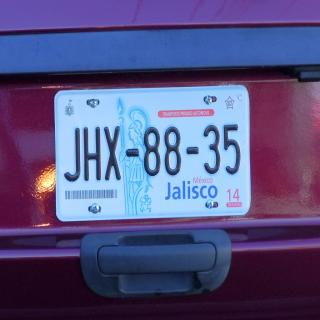license: (53, 90, 253, 217)
